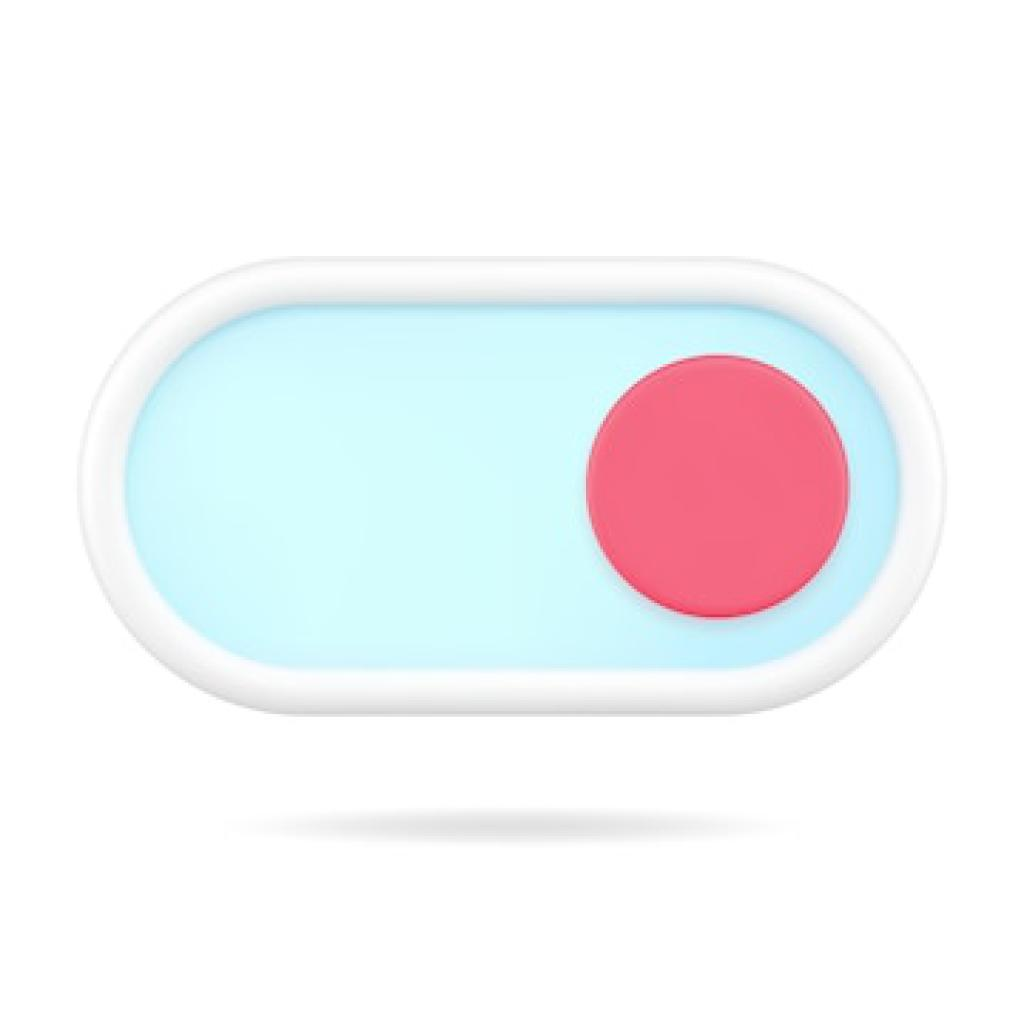switch: (80, 255, 948, 719)
